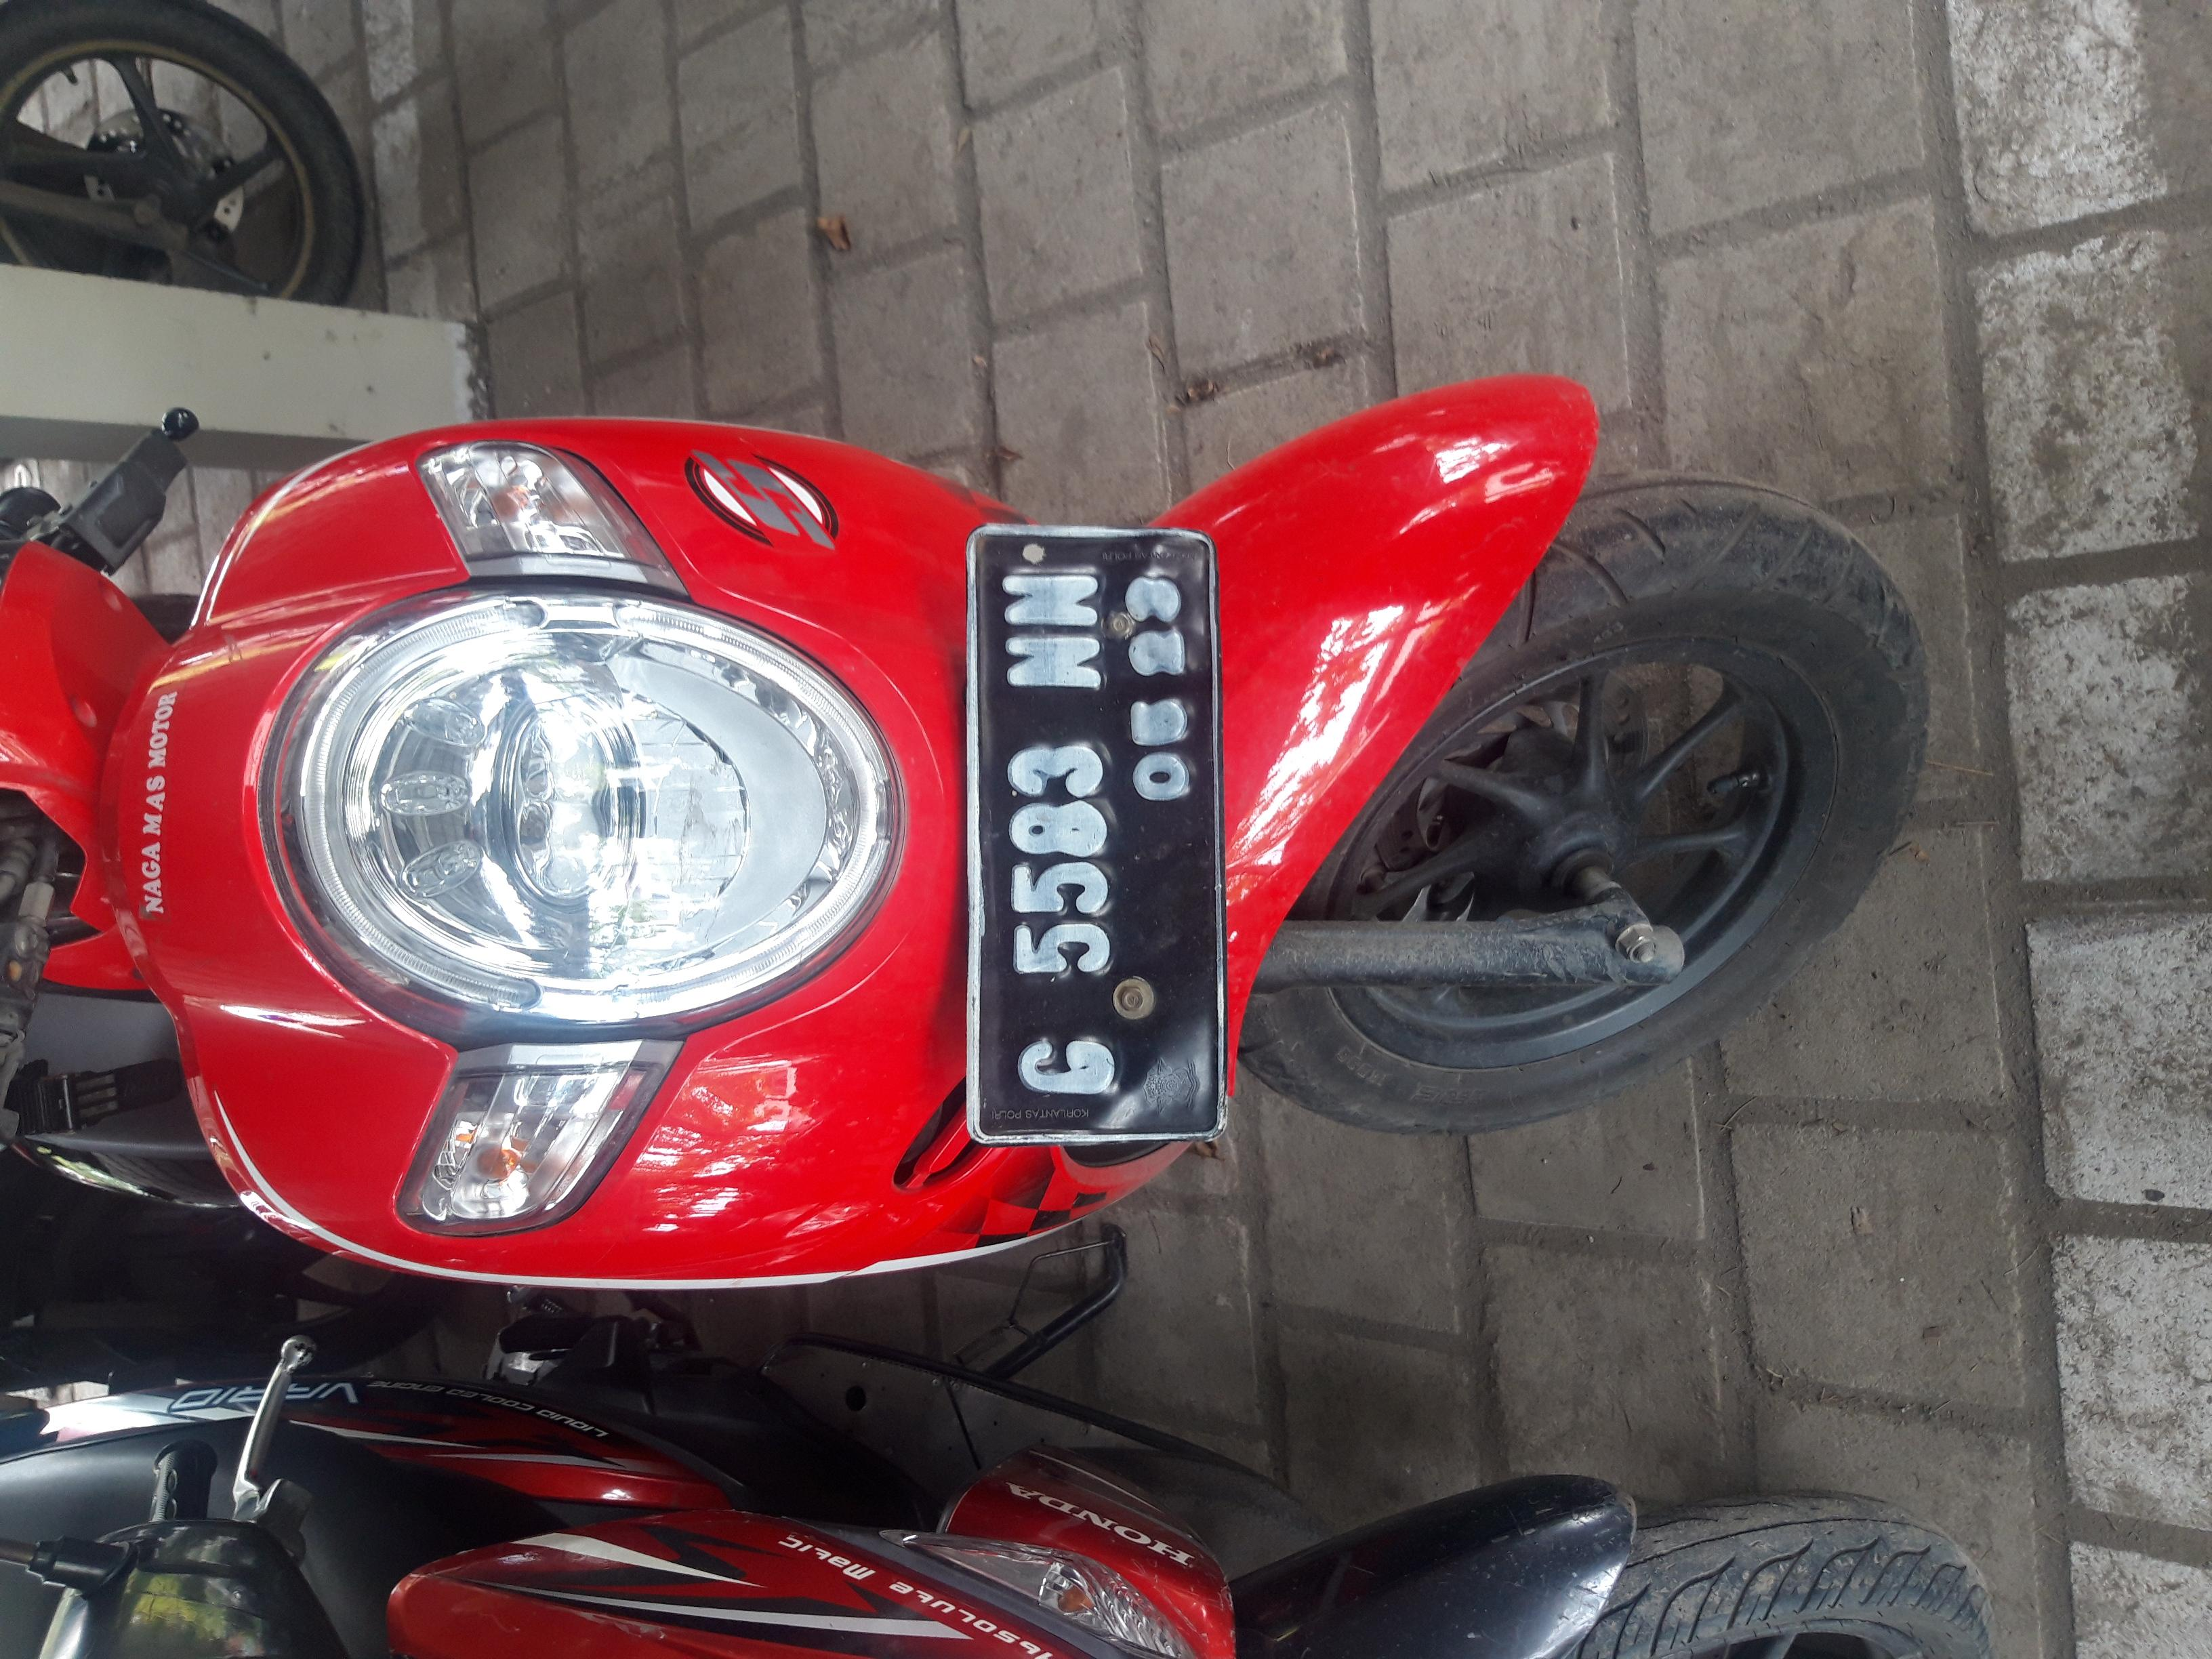plat: (674, 725, 1515, 920)
